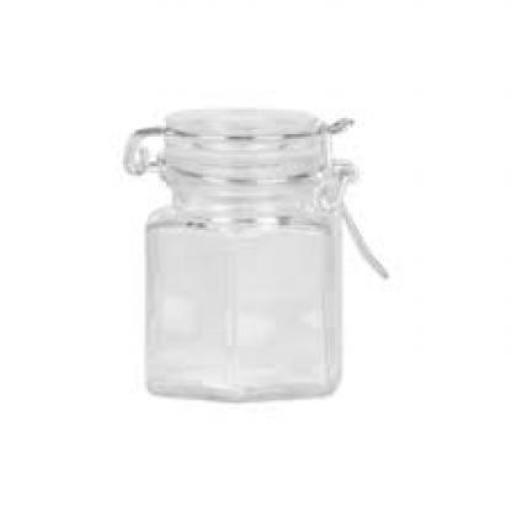glass: (148, 112, 346, 400)
